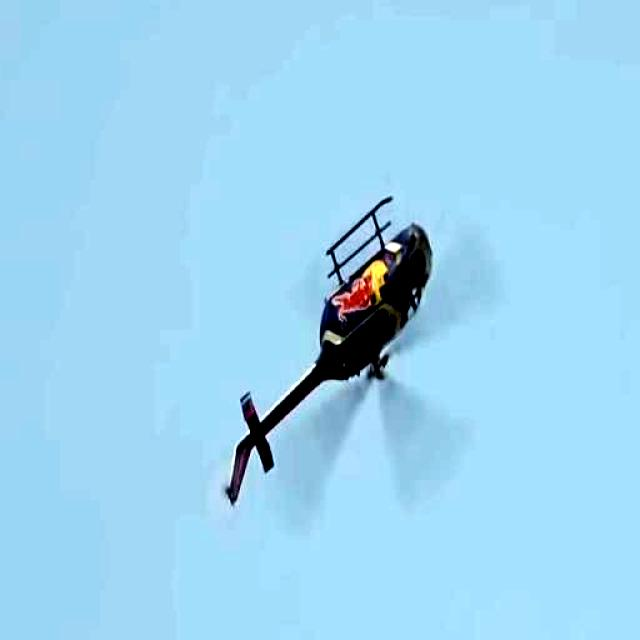drone: (212, 164, 465, 535)
